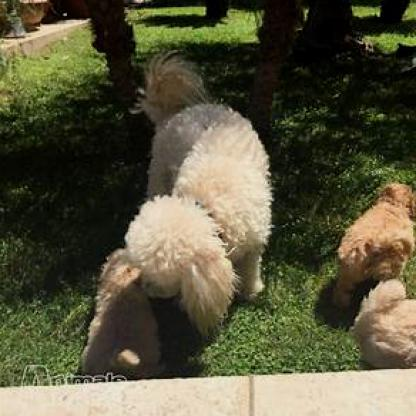dog: (130, 60, 276, 336), (82, 244, 166, 372), (336, 180, 415, 308)
